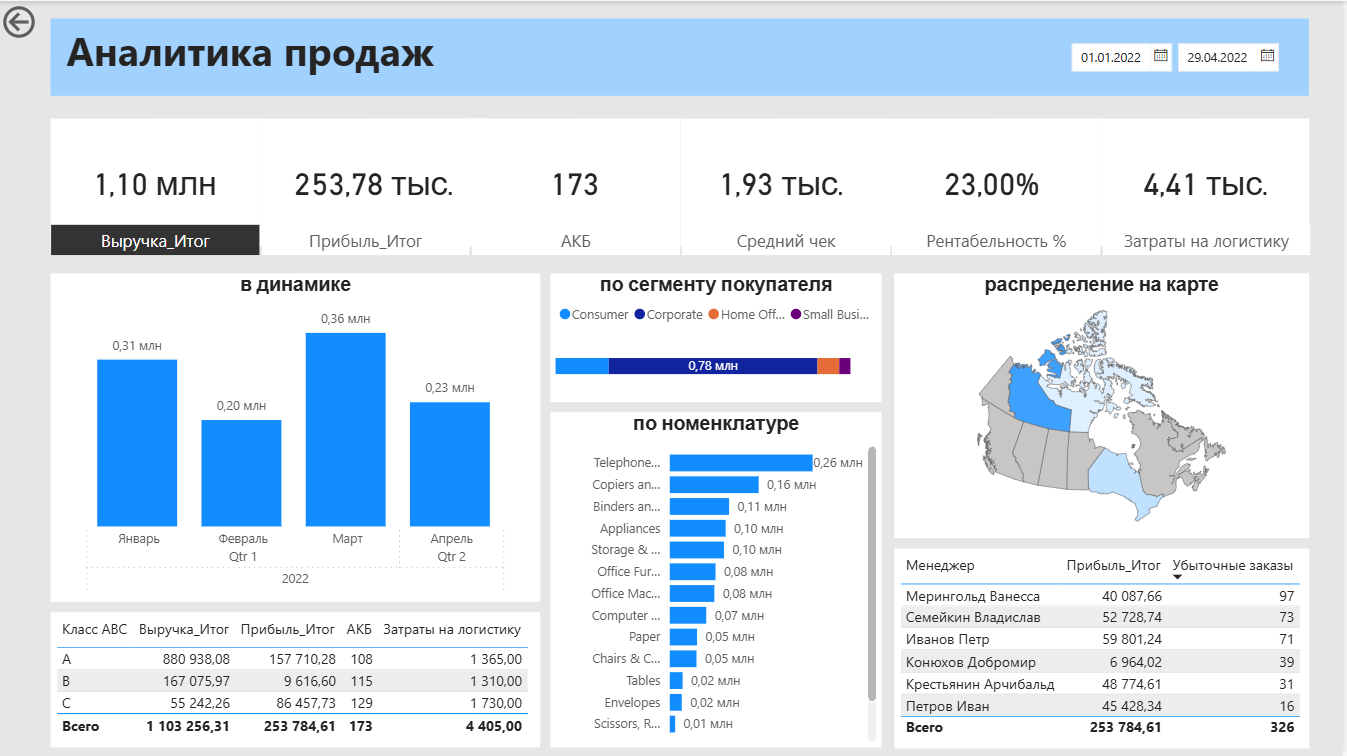

What the dashboard file says about the page in this screenshot:
{"tool":"powerbi","page":{"name":"Страница 1","canvas":[1280,720],"ordinal":0},"visuals":[{"type":"card","fields":{"Values":["Продажи.Выручка_Итог"]},"box":[50,111.9,198.8,121.4],"z":0},{"type":"card","fields":{"Values":["Продажи.Прибыль_Итог"]},"box":[248.8,111.9,217.9,121.4],"z":1000},{"type":"card","fields":{"Values":["Продажи.АКБ"]},"box":[448.8,111.9,201.2,121.4],"z":2000},{"type":"card","fields":{"Values":["Продажи.Средний чек"]},"box":[650,111.9,191.7,121.4],"z":3000},{"type":"card","fields":{"Values":["Продажи.Рентабельность %"]},"box":[841.7,111.9,209.5,121.4],"z":4000},{"type":"card","fields":{"Values":["Продажи.Затраты на логистику"]},"box":[1051.2,111.9,197.6,121.4],"z":5000},{"type":"columnChart","title":"в динамике","fields":{"Y":["Продажи.Рентабельность %"],"Category":["Календарь.Date.Изменение.Иерархия дат.Год","Календарь.Date.Изменение.Иерархия дат.Квартал","Календарь.Date.Изменение.Иерархия дат.Месяц"]},"box":[50,259.5,466.7,313.1],"z":6000},{"type":"barChart","title":"по сегменту покупателя","fields":{"Y":["Продажи.Рентабельность %"],"Series":["СПР_покупатели.Сегмент покупателя"]},"box":[526.2,259.5,315.5,122.6],"z":7000},{"type":"clusteredBarChart","title":"по номенклатуре","fields":{"Y":["Продажи.Рентабельность %"],"Category":["СПР_продукты.Категория продукта","СПР_продукты.Подкатегория продукта","СПР_продукты.Продукт"]},"box":[526.2,391.7,315.5,319],"z":8000},{"type":"actionButton","box":[0,0,100,40],"z":9000},{"type":"shapeMap","title":"распределение на карте","fields":{"Value":["Продажи.Рентабельность %"],"Category":["Продажи.Регион"]},"box":[853.6,259.5,395.2,252.4],"z":10000},{"type":"textbox","box":[50,16.2,1198.8,73.8],"z":11000},{"type":"slicer","fields":{"Values":["Календарь.Date"]},"box":[1010,30,226.2,47.5],"z":12000},{"type":"tableEx","fields":{"Values":["СПР_Менеджеры.Менеджер","Продажи.Прибыль_Итог","Продажи.Убыточные заказы"]},"box":[853.8,521.2,395,190],"z":13000},{"type":"tableEx","fields":{"Values":["СПР_продукты.Класс ABC","Продажи.Выручка_Итог","Продажи.Прибыль_Итог","Продажи.АКБ","Продажи.Затраты на логистику"]},"box":[50,582.5,466.2,128.8],"z":14000},{"type":"slicer","fields":{"Values":["Выбор метки.Выбор метки"]},"box":[29.8,206,1239.3,36.9],"z":15000}]}

Visuals, with their boxes in screenshot pixels (x1, y1, x2, y2), scaled from the page's 1280x720 canvas onto the 1347x756 screenshot:
card - Продажи.Выручка_Итог: [x1=53, y1=117, x2=262, y2=245]
card - Продажи.Прибыль_Итог: [x1=262, y1=117, x2=491, y2=245]
card - Продажи.АКБ: [x1=472, y1=117, x2=684, y2=245]
card - Продажи.Средний чек: [x1=684, y1=117, x2=886, y2=245]
card - Продажи.Рентабельность %: [x1=886, y1=117, x2=1106, y2=245]
card - Продажи.Затраты на логистику: [x1=1106, y1=117, x2=1314, y2=245]
"в динамике" columnChart: [x1=53, y1=272, x2=544, y2=601]
"по сегменту покупателя" barChart: [x1=554, y1=272, x2=886, y2=401]
"по номенклатуре" clusteredBarChart: [x1=554, y1=411, x2=886, y2=746]
actionButton: [x1=0, y1=0, x2=105, y2=42]
"распределение на карте" shapeMap: [x1=898, y1=272, x2=1314, y2=537]
textbox: [x1=53, y1=17, x2=1314, y2=94]
slicer - Календарь.Date: [x1=1063, y1=32, x2=1301, y2=81]
tableEx - СПР_Менеджеры.Менеджер x Продажи.Прибыль_Итог: [x1=898, y1=547, x2=1314, y2=747]
tableEx - СПР_продукты.Класс ABC x Продажи.Выручка_Итог: [x1=53, y1=612, x2=543, y2=747]
slicer - Выбор метки.Выбор метки: [x1=31, y1=216, x2=1336, y2=255]
